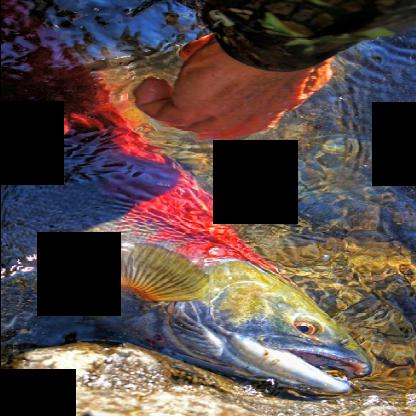fish: (1, 0, 378, 398)
